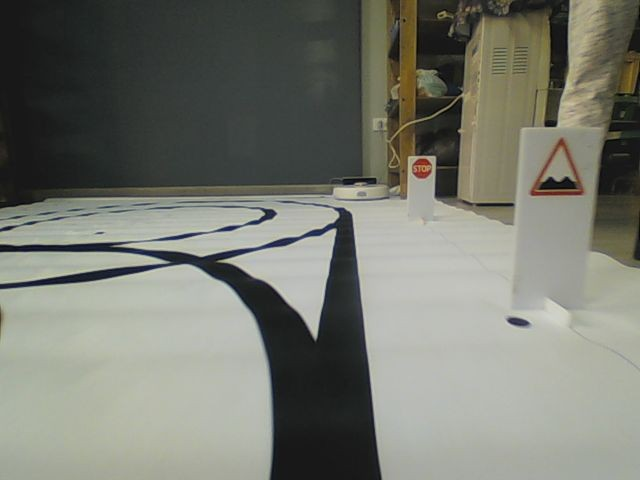Stop: (412, 158, 433, 178)
